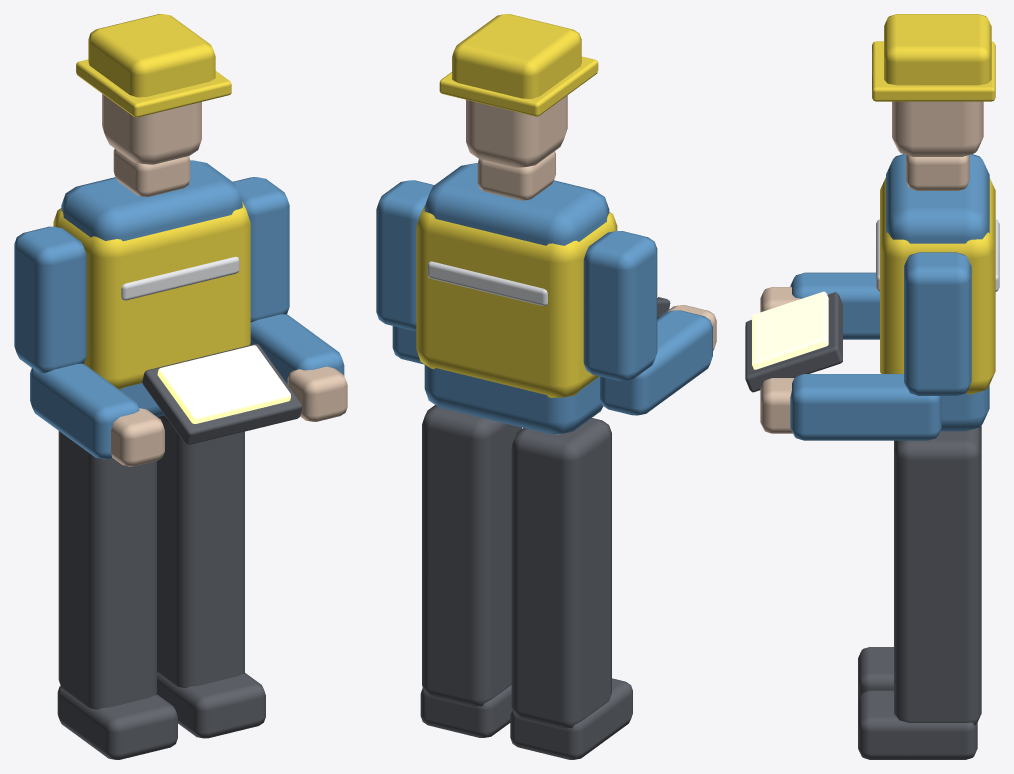
Rendered from quality-inspector.glb.
3 renders of one model, left to right at view 1: azimuth 30°, elevation 25°; view 2: azimuth 150°, elevation 25°; view 3: azimuth 270°, elevation 25°, orthographic.
Visible parts, largest first — view 1: quality-inspector-with-tablet; view 2: quality-inspector-with-tablet; view 3: quality-inspector-with-tablet.
Boxes of the visible parts, x1,y1,x2,y2 form: quality-inspector-with-tablet: (14, 14, 347, 759); quality-inspector-with-tablet: (376, 14, 716, 759); quality-inspector-with-tablet: (745, 14, 999, 759).
Size of the model in its own units: 0.75 by 1.92 by 0.6375.
